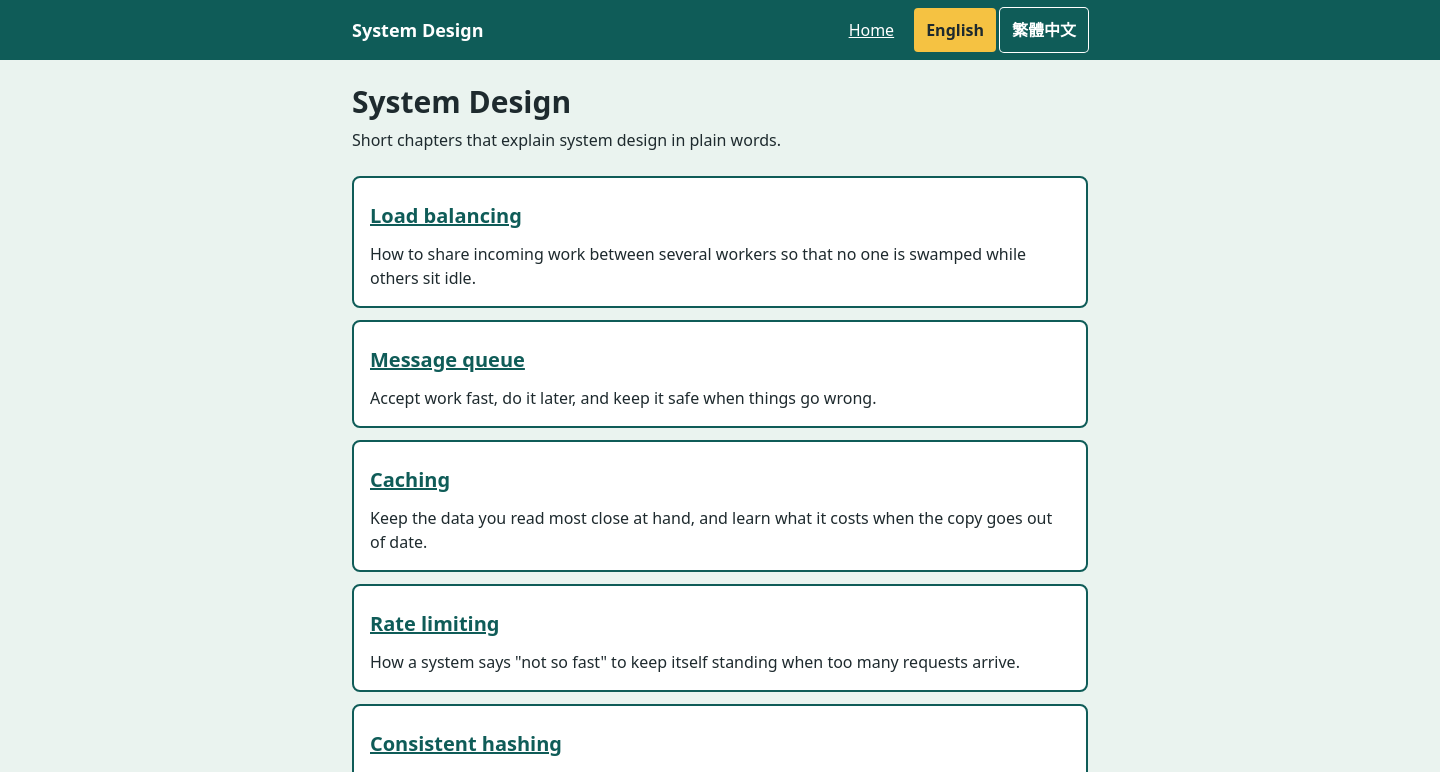
Scenario: App › T2: following the chapter link shows the chapter page
Click the link "Load balancing": [446, 216] box [370,194,522,238]
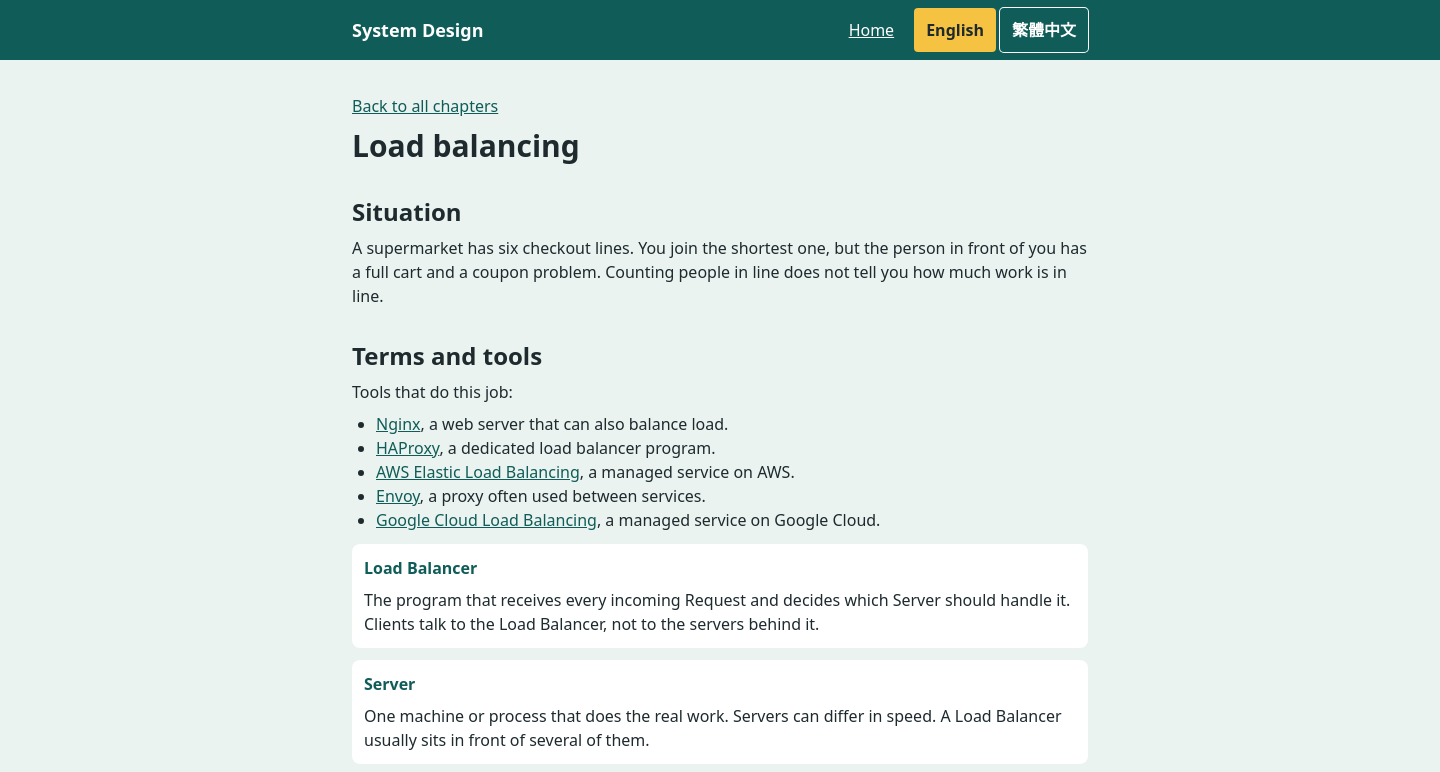
Expected: the heading "Situation" is shown, [352,195,462,228]
